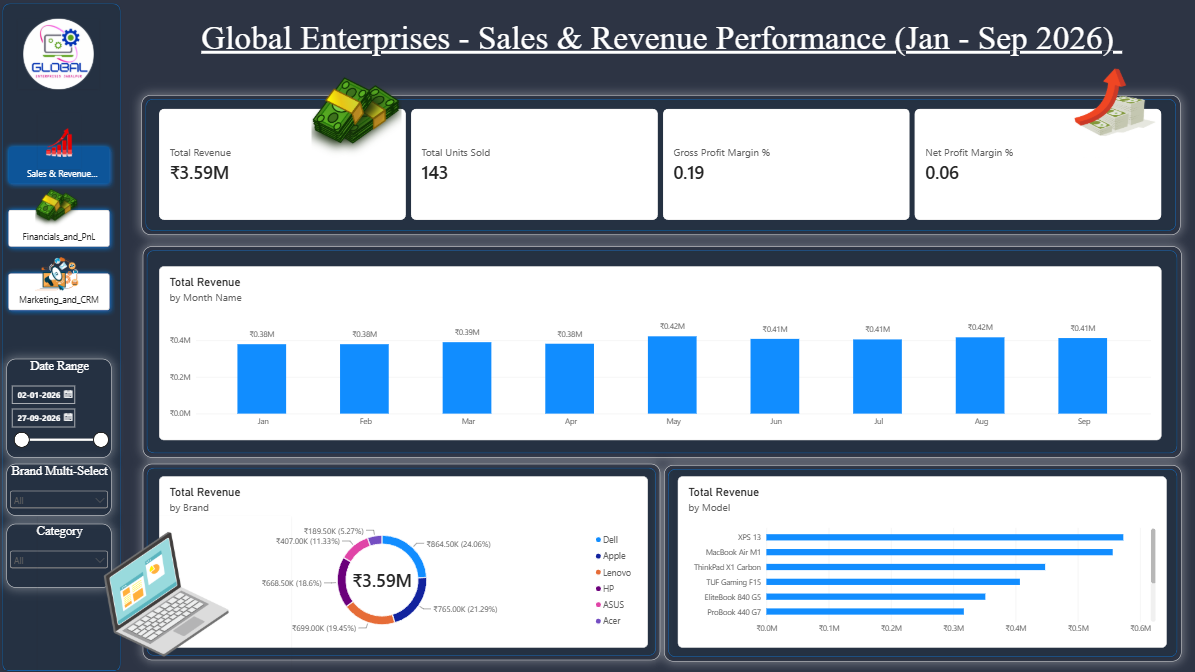

This screenshot's page, from the dashboard's own definition file:
{"tool":"powerbi","page":{"name":"Sales & Revenue Performance","canvas":[1920,1080],"ordinal":0},"visuals":[{"type":"shape","box":[0,0,200,1080.6],"z":0},{"type":"shape","box":[228,152,1662,224],"z":1000},{"type":"shape","box":[230,394,1662,338],"z":2000},{"type":"textbox","box":[199.7,30.9,1720.8,113.2],"z":3000},{"type":"cardVisual","fields":{"Data":["Table.Total revenu","Table.Total Units Sold","Table.Gross Profit Margin %","Table.Net Profit Margin %"]},"box":[256,174,1604,178],"z":4000},{"type":"slicer","title":"Date Range","fields":{"Values":["Calendar.Date"]},"box":[11,574,168,158],"z":5000},{"type":"slicer","title":"Brand Multi-Select","fields":{"Values":["Laptops.Brand"]},"box":[11,742,168,83],"z":6000},{"type":"slicer","title":"Category","fields":{"Values":["Laptops.Category"]},"box":[11,838,168,102],"z":7000},{"type":"lineClusteredColumnComboChart","fields":{"Category":["Calendar.Month Name"],"Y":["Table.Total Revenue"]},"box":[256,426,1604,278],"z":8000},{"type":"shape","box":[230,742,828,314],"z":9000},{"type":"shape","box":[1064,744,828,314],"z":10000},{"type":"donutChart","fields":{"Category":["Laptops.Brand"],"Y":["Table.Total Revenue"]},"box":[256,762,782,274],"z":11000},{"type":"barChart","fields":{"Category":["Laptops.Model"],"Y":["Table.Total Revenue"]},"box":[1086,762,782,274],"z":12000},{"type":"pageNavigator","box":[6,226,180,280],"z":13000},{"type":"image","box":[61.2,180,68.8,91.2],"z":14000},{"type":"image","box":[58.3,284.2,68.8,91.2],"z":15000},{"type":"image","box":[58.3,394.2,68.8,91.2],"z":16000},{"type":"image","box":[500,66,144,228],"z":17000},{"type":"image","box":[1688,0,204,310],"z":18000},{"type":"image","box":[30,30,130,112.5],"z":19000},{"type":"image","box":[62.5,825,405,255],"z":20000}]}

Visuals, with their boxes on the page's 1920x1080 design canvas (x1, y1, x2, y2). These are canvas units, not pixel positions in the 1195x672 screenshot, which may show the page scaled, cropped or inside an application window:
shape: pyautogui.locateOnScreen(0, 0, 200, 1081)
shape: pyautogui.locateOnScreen(228, 152, 1890, 376)
shape: pyautogui.locateOnScreen(230, 394, 1892, 732)
textbox: pyautogui.locateOnScreen(200, 31, 1920, 144)
cardVisual - Table.Total revenu x Table.Total Units Sold: pyautogui.locateOnScreen(256, 174, 1860, 352)
"Date Range" slicer: pyautogui.locateOnScreen(11, 574, 179, 732)
"Brand Multi-Select" slicer: pyautogui.locateOnScreen(11, 742, 179, 825)
"Category" slicer: pyautogui.locateOnScreen(11, 838, 179, 940)
lineClusteredColumnComboChart - Calendar.Month Name x Table.Total Revenue: pyautogui.locateOnScreen(256, 426, 1860, 704)
shape: pyautogui.locateOnScreen(230, 742, 1058, 1056)
shape: pyautogui.locateOnScreen(1064, 744, 1892, 1058)
donutChart - Laptops.Brand x Table.Total Revenue: pyautogui.locateOnScreen(256, 762, 1038, 1036)
barChart - Laptops.Model x Table.Total Revenue: pyautogui.locateOnScreen(1086, 762, 1868, 1036)
pageNavigator: pyautogui.locateOnScreen(6, 226, 186, 506)
image: pyautogui.locateOnScreen(61, 180, 130, 271)
image: pyautogui.locateOnScreen(58, 284, 127, 375)
image: pyautogui.locateOnScreen(58, 394, 127, 485)
image: pyautogui.locateOnScreen(500, 66, 644, 294)
image: pyautogui.locateOnScreen(1688, 0, 1892, 310)
image: pyautogui.locateOnScreen(30, 30, 160, 142)
image: pyautogui.locateOnScreen(62, 825, 468, 1080)
